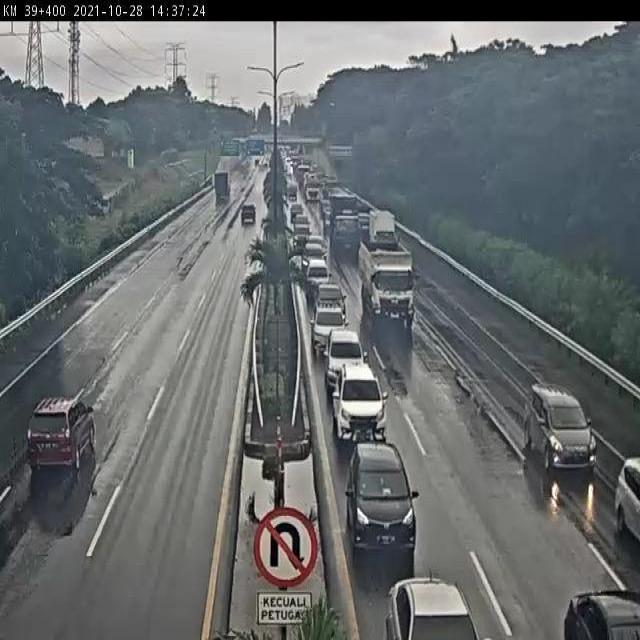big truck: (360, 243, 413, 320), (330, 194, 359, 254), (215, 171, 231, 200)
car: (347, 441, 416, 559), (525, 384, 596, 469), (386, 577, 481, 640), (27, 398, 95, 470), (333, 364, 386, 440), (564, 590, 640, 640), (327, 329, 365, 392), (615, 456, 640, 544), (314, 301, 345, 352), (315, 284, 345, 316), (302, 243, 325, 269), (306, 260, 328, 287), (294, 225, 310, 244), (242, 204, 256, 223)
small truck: (369, 209, 397, 251)
